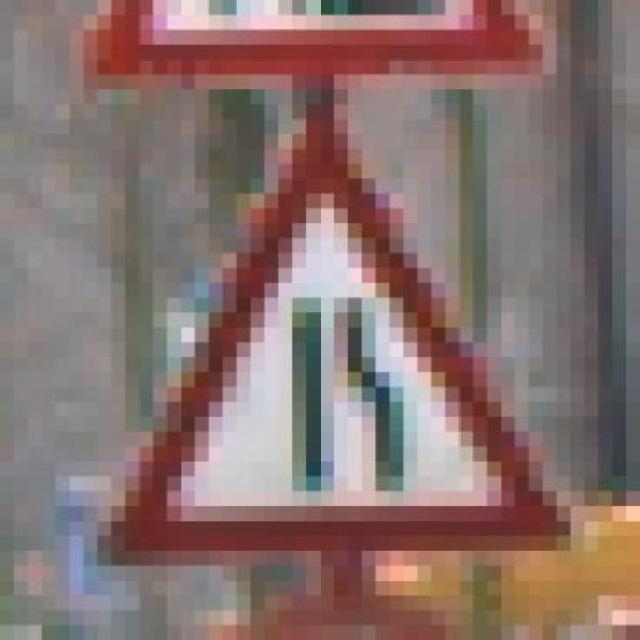-Road narrows on right: (97, 104, 571, 565)
